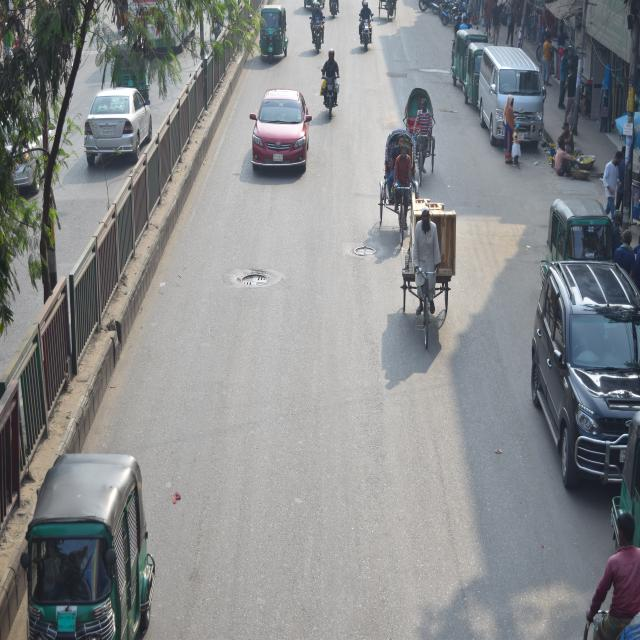car: (527, 242, 640, 494), (244, 97, 315, 197), (76, 86, 155, 171)
microbus: (476, 36, 551, 150)
motorbike: (320, 51, 340, 124), (356, 0, 374, 79), (308, 4, 328, 50)
